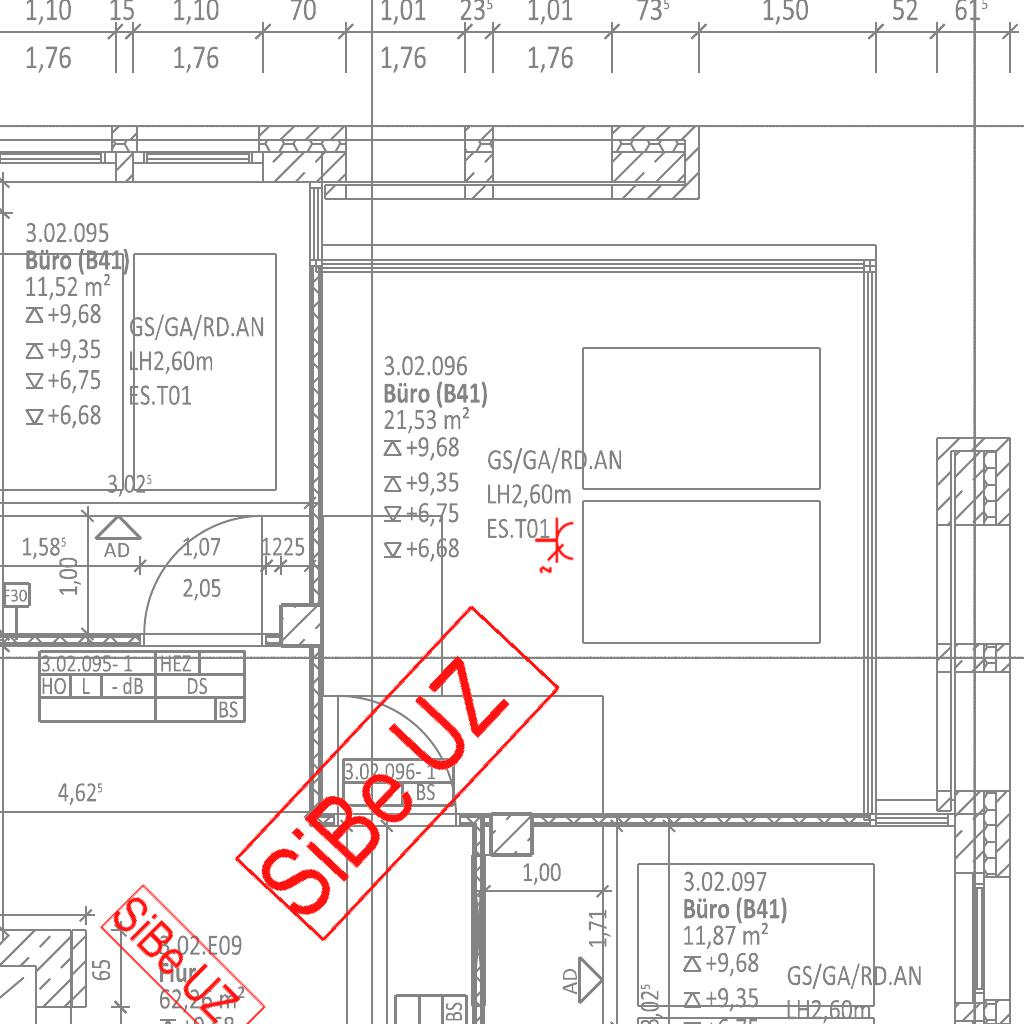Schukosteckdose_mehrfach: (532, 515, 576, 575)
Zentrale_Sicherheitsbeleuchtung: (229, 598, 568, 948), (97, 881, 269, 1024)
